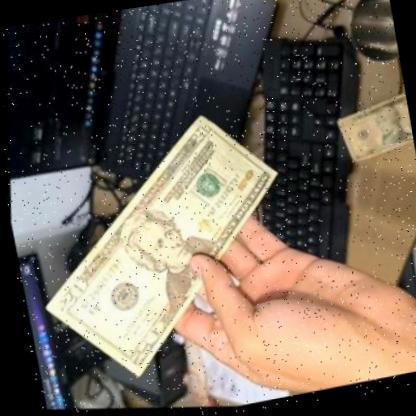twenty-front: (2, 73, 324, 416)
